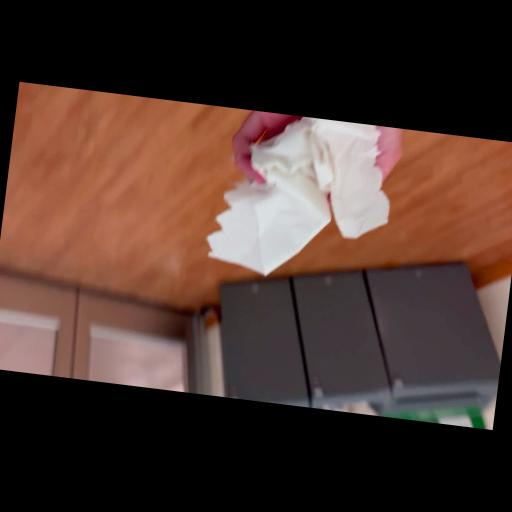napkin: (202, 107, 404, 294)
